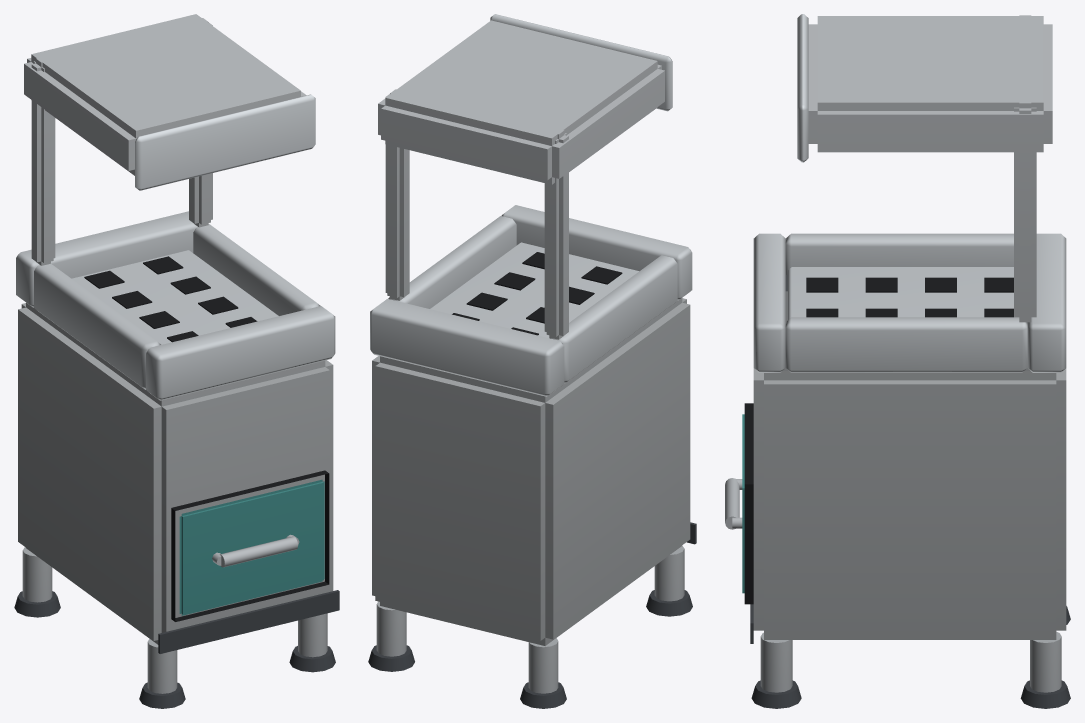
File: SM_FryDump_Station_05.glb
3 renders of one model, left to right at view 1: azimuth 30°, elevation 25°; view 2: azimuth 150°, elevation 25°; view 3: azimuth 270°, elevation 25°, orthographic. The views are drawn at different scales.
Parts seen in each view (by area): view 1: SM_FryDump_Station_05; view 2: SM_FryDump_Station_05; view 3: SM_FryDump_Station_05.
Boxes of the visible parts, x1,y1,x2,y2 form: SM_FryDump_Station_05: (14, 14, 339, 708); SM_FryDump_Station_05: (368, 14, 696, 708); SM_FryDump_Station_05: (725, 14, 1070, 708).
Size of the model in its own units: 0.52 by 1.45 by 0.758.
1 material, 1 textured.
